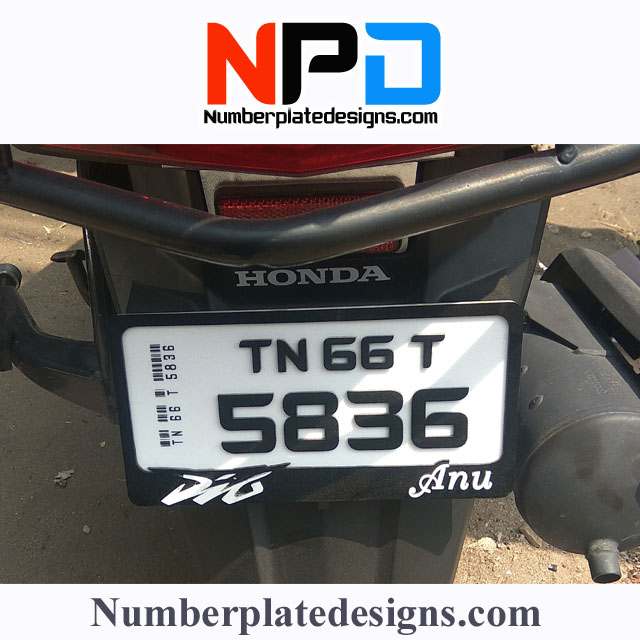number_plate: (106, 302, 534, 513)
